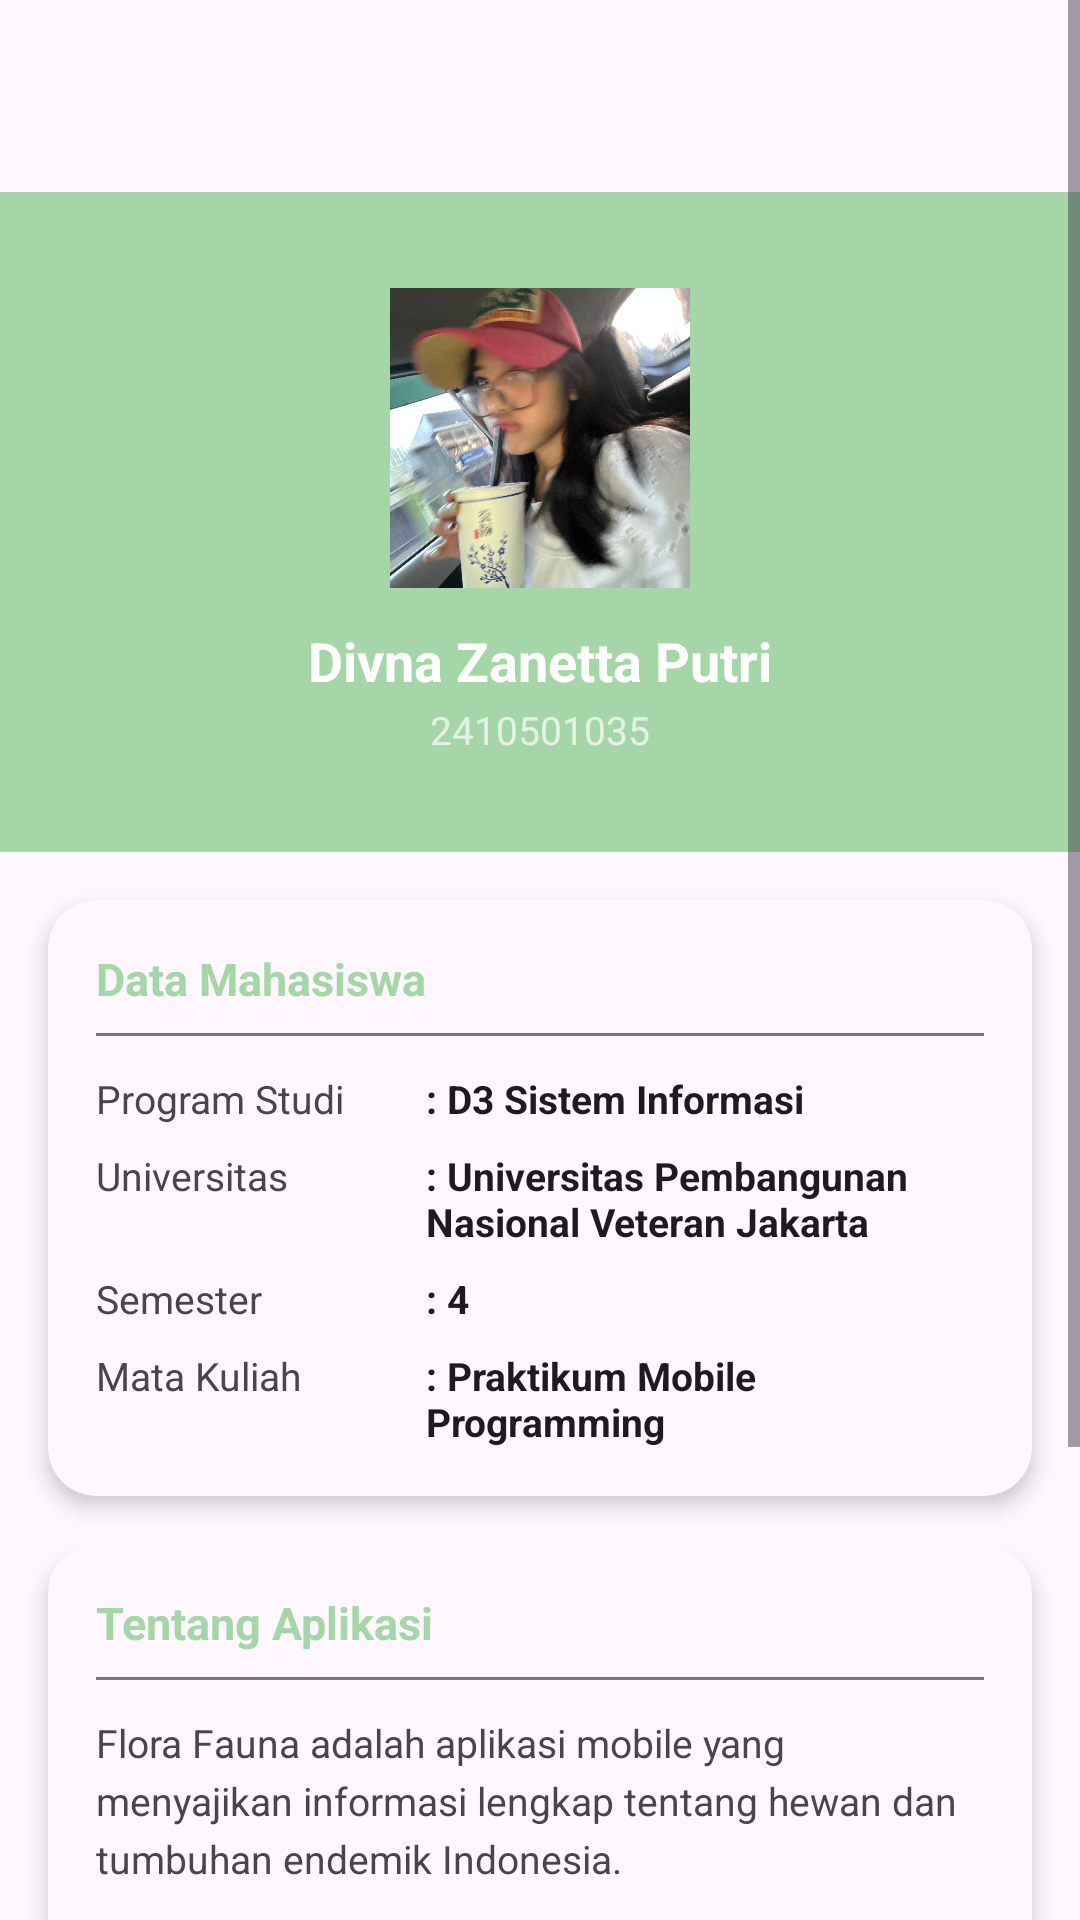

Icon bounding boxes for this 1080x1920 phone screenshot, format (x1, y1, x2, y2):
Foto Mahasiswa: (390, 288, 690, 588)
